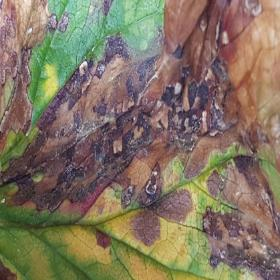Angular Leafspot: (0, 0, 279, 279)
